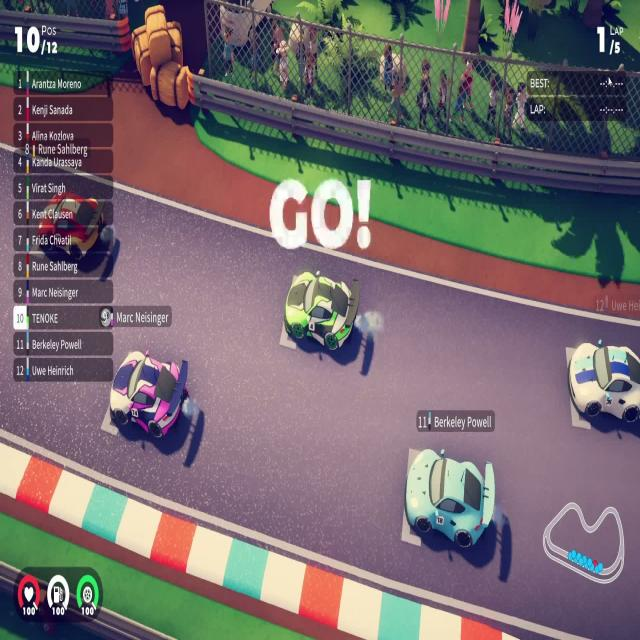car: (404, 446, 495, 551), (109, 348, 190, 440), (283, 268, 360, 352), (568, 338, 640, 426)
